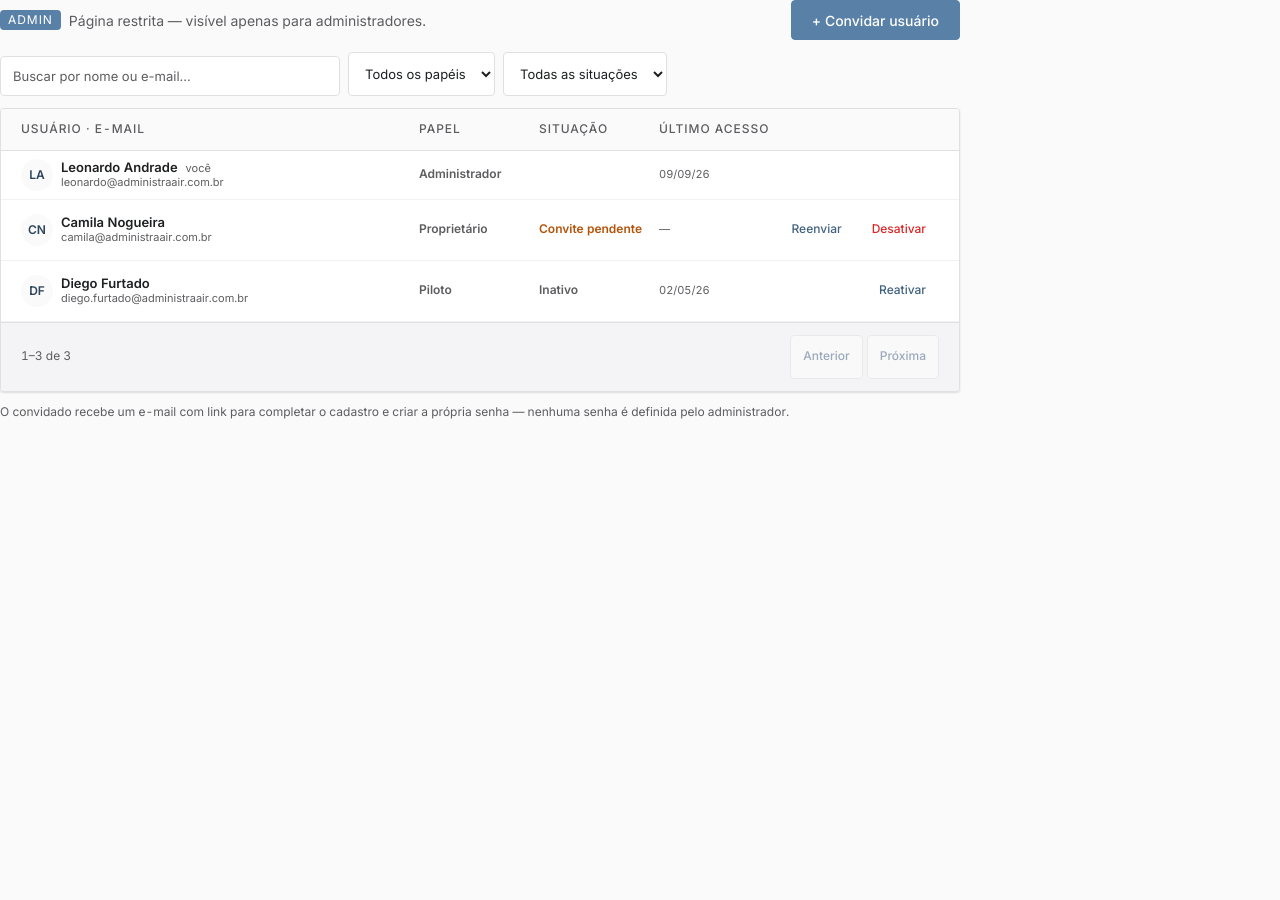
PaginaDeUsuarios › ações na linha › desativar pede confirmação nomeando a pessoa e diz o que acontece
The width and height of the screenshot is (1280, 900).
What coordinates should you click on to do the following:
click the button with aria-label "Desativar Camila Nogueira"
I would click on:
 (899, 230)
Its box is [859, 208, 939, 252].
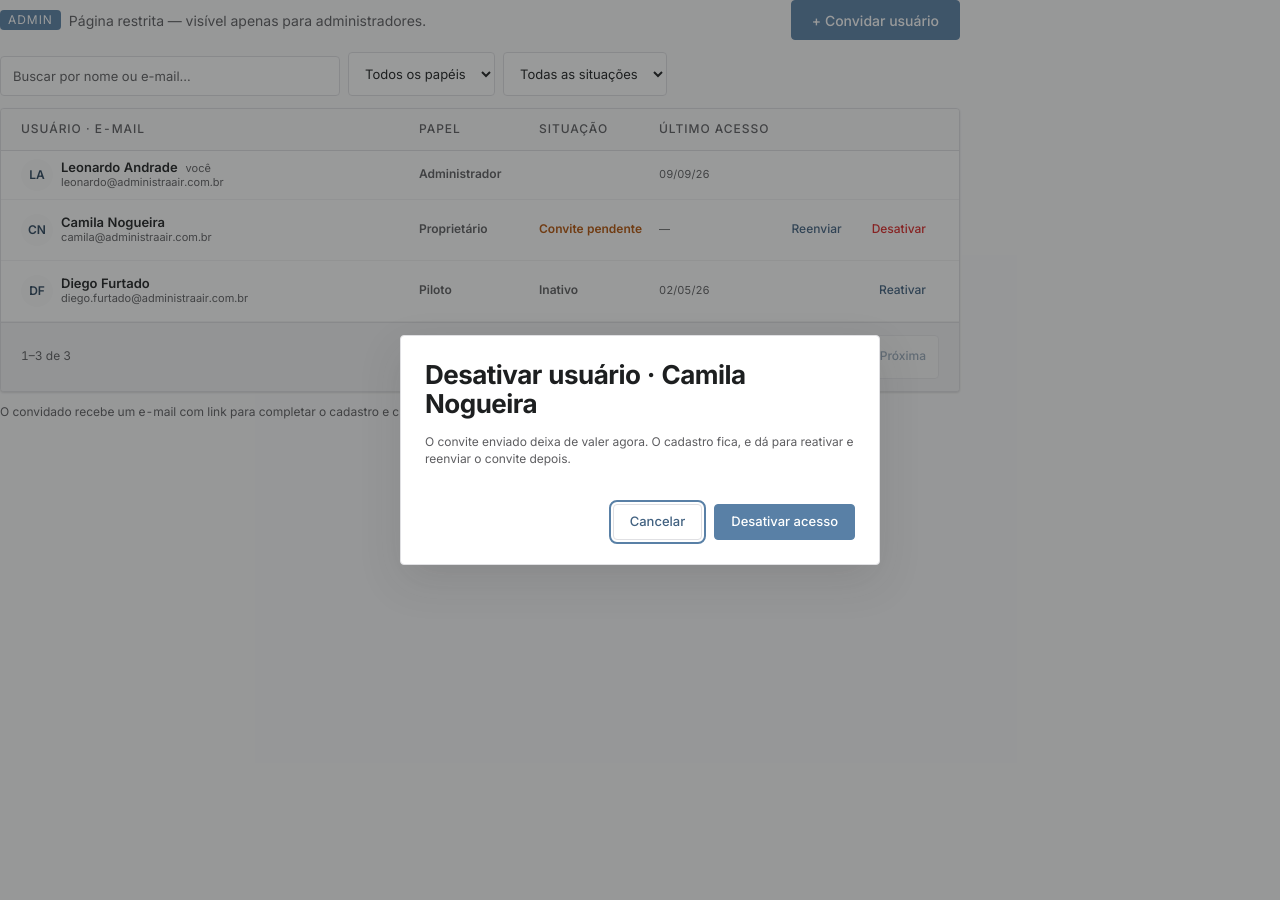
Expected: the text "O convite enviado deixa de valer agora" is shown, [425, 434, 854, 466]
What coordinates should you click on to do the following:
click the button "Desativar acesso"
I would click on:
 (785, 522)
Its box is [714, 504, 855, 540].
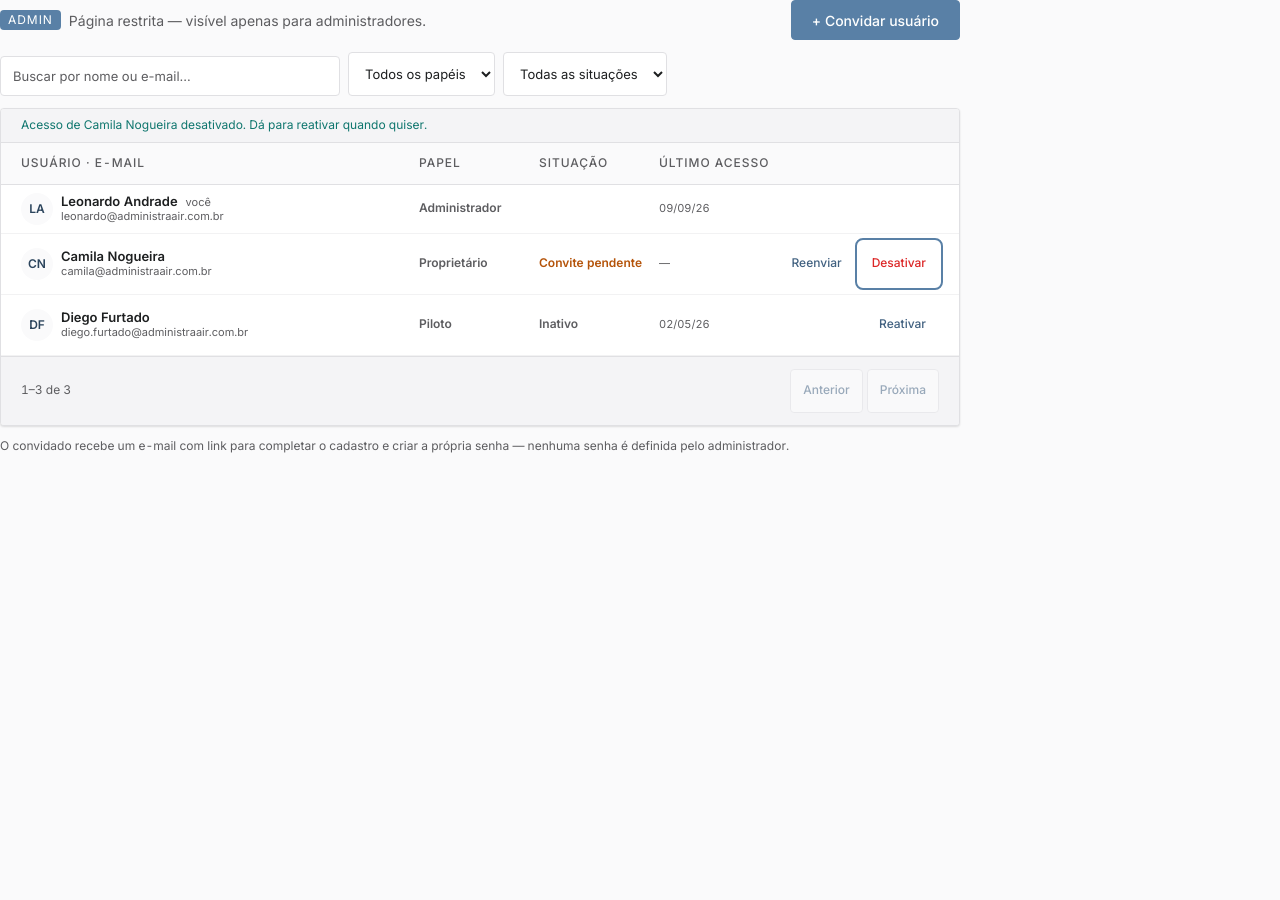
Expected: the text "Acesso de Camila Nogueira desativado. Dá para reativar quando quiser." is shown, [21, 117, 427, 132]
Expected: the dialog is gone
